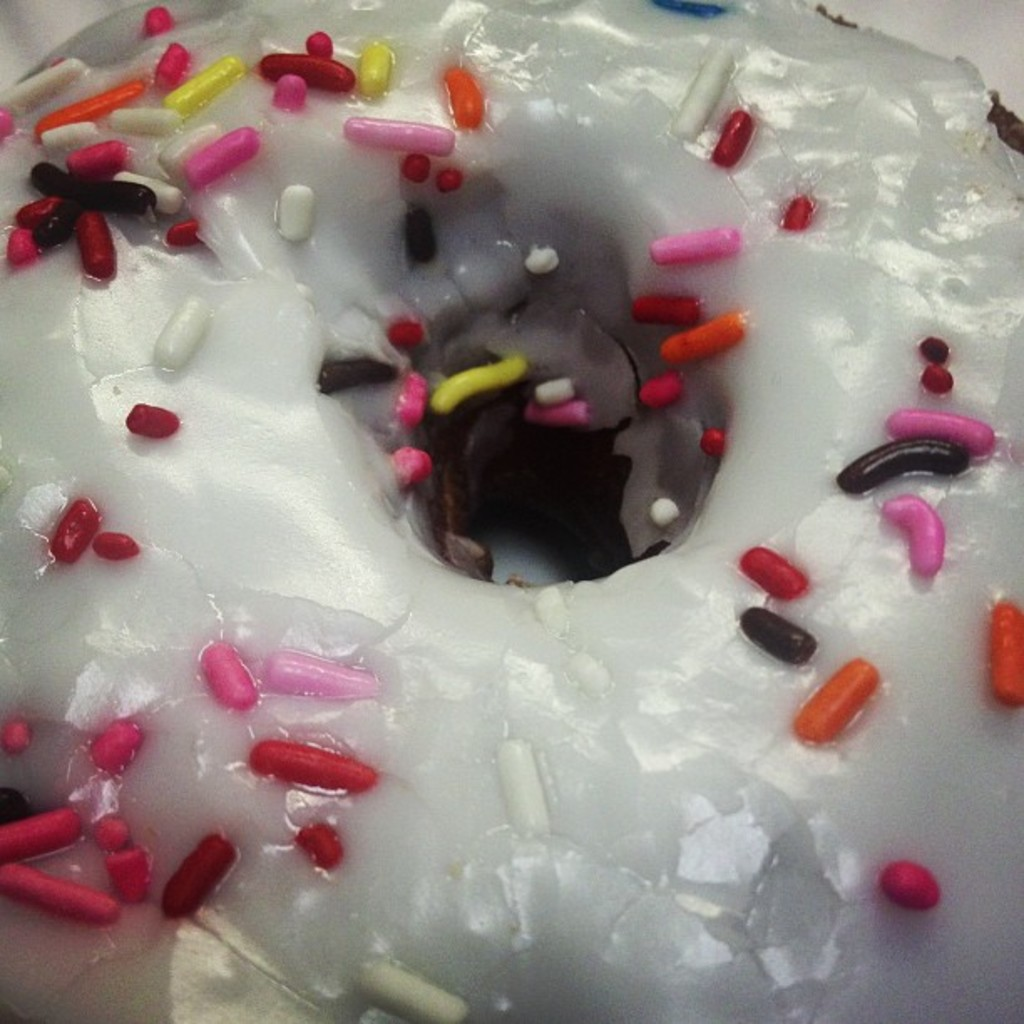cake: (0, 0, 1022, 1022)
